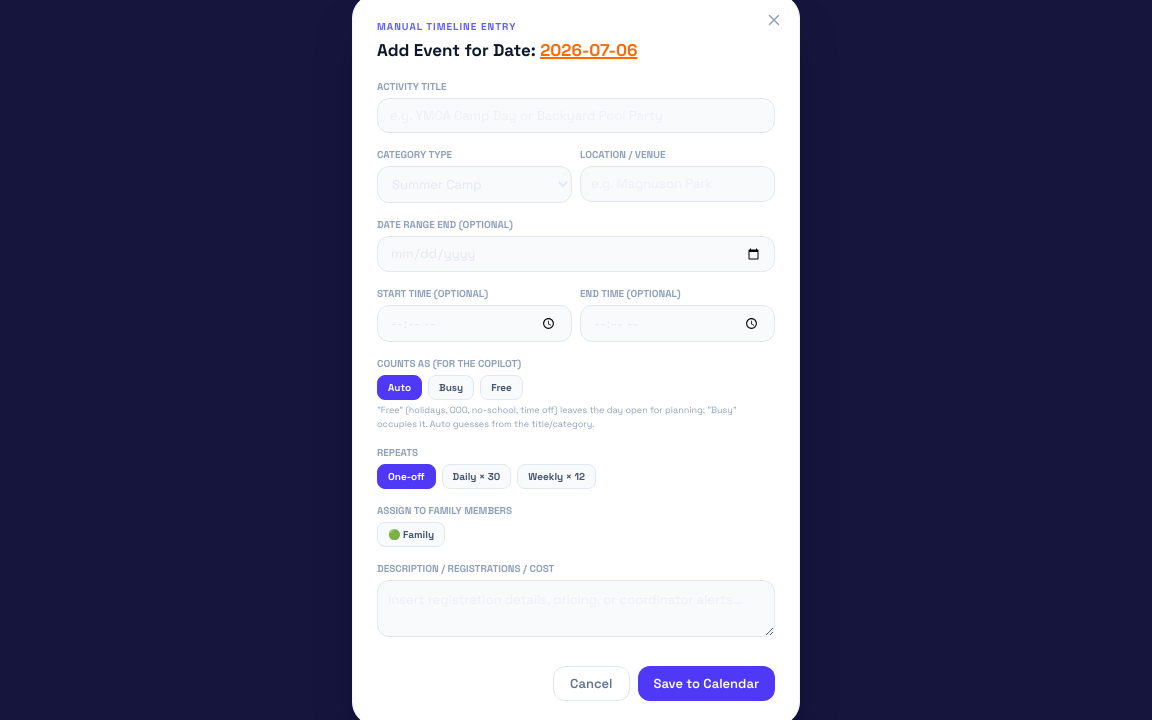
Scenario: AddEventModal — RRULE-lite repeat picker (W8) › explains the expansion when a repeat is selected
This screenshot has width=1152, height=720.
Click the button with id "modal-evt-repeat-weekly" at {"x": 557, "y": 477}, box [517,464,596,489]
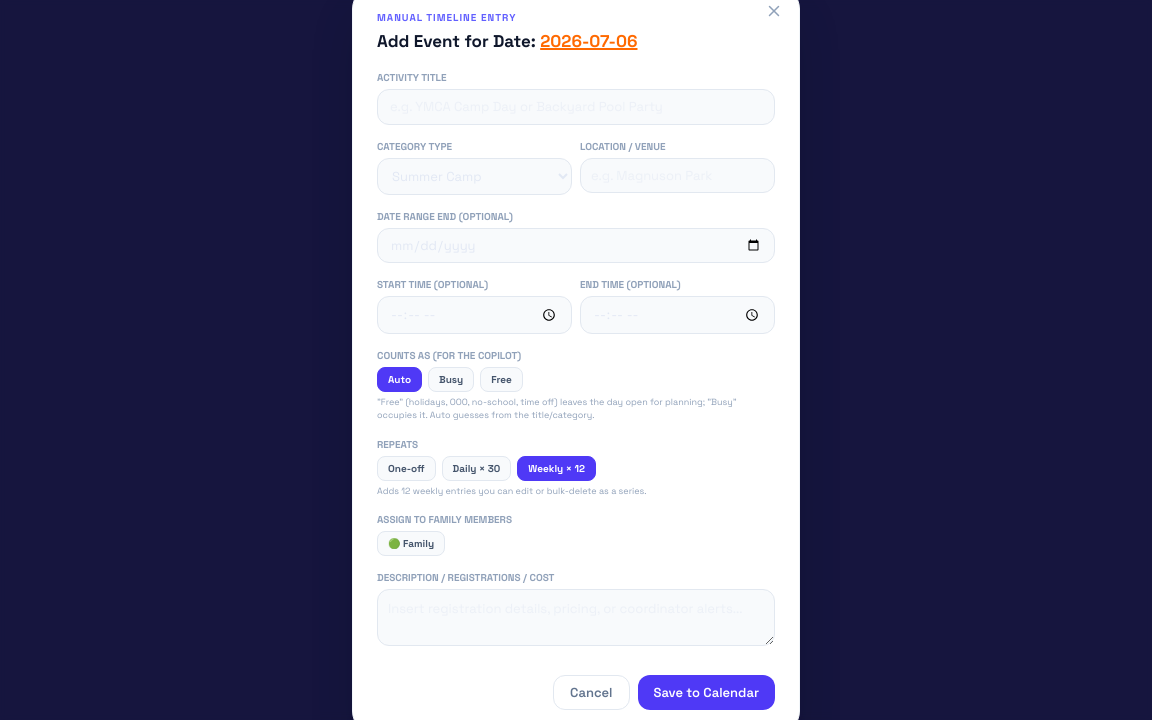
Check: the text "12 weekly entries" is shown, box [377,485,647,497]
